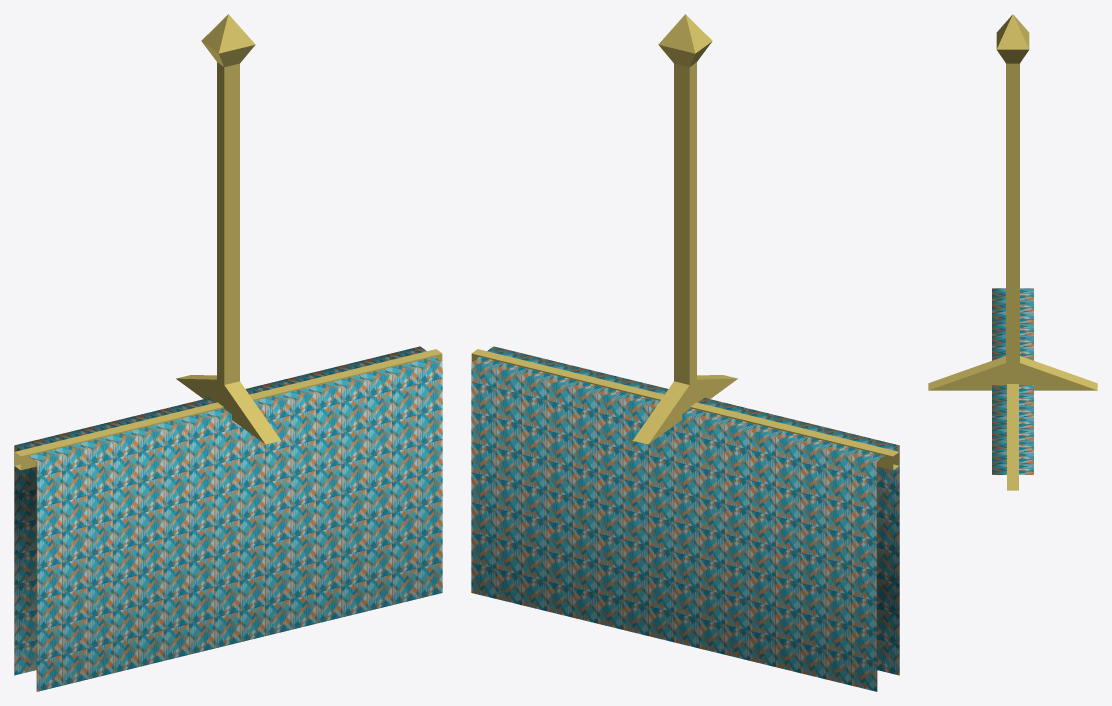
File: 4626floor_r.gltf
3 views of the same model, side by side, from view 1: azimuth 30°, elevation 25°; view 2: azimuth 150°, elevation 25°; view 3: azimuth 270°, elevation 25° (orthographic). The views are drawn at different scales.
Parts seen in each view (by area): view 1: 4626floor_r; view 2: 4626floor_r; view 3: 4626floor_r.
Boxes of the visible parts, x1,y1,x2,y2 form: 4626floor_r: [14, 14, 442, 691]; 4626floor_r: [471, 14, 899, 691]; 4626floor_r: [928, 14, 1097, 490].
Size of the model in its own units: 1.59 by 2.23 by 0.5869.
2 materials, 1 textured.
